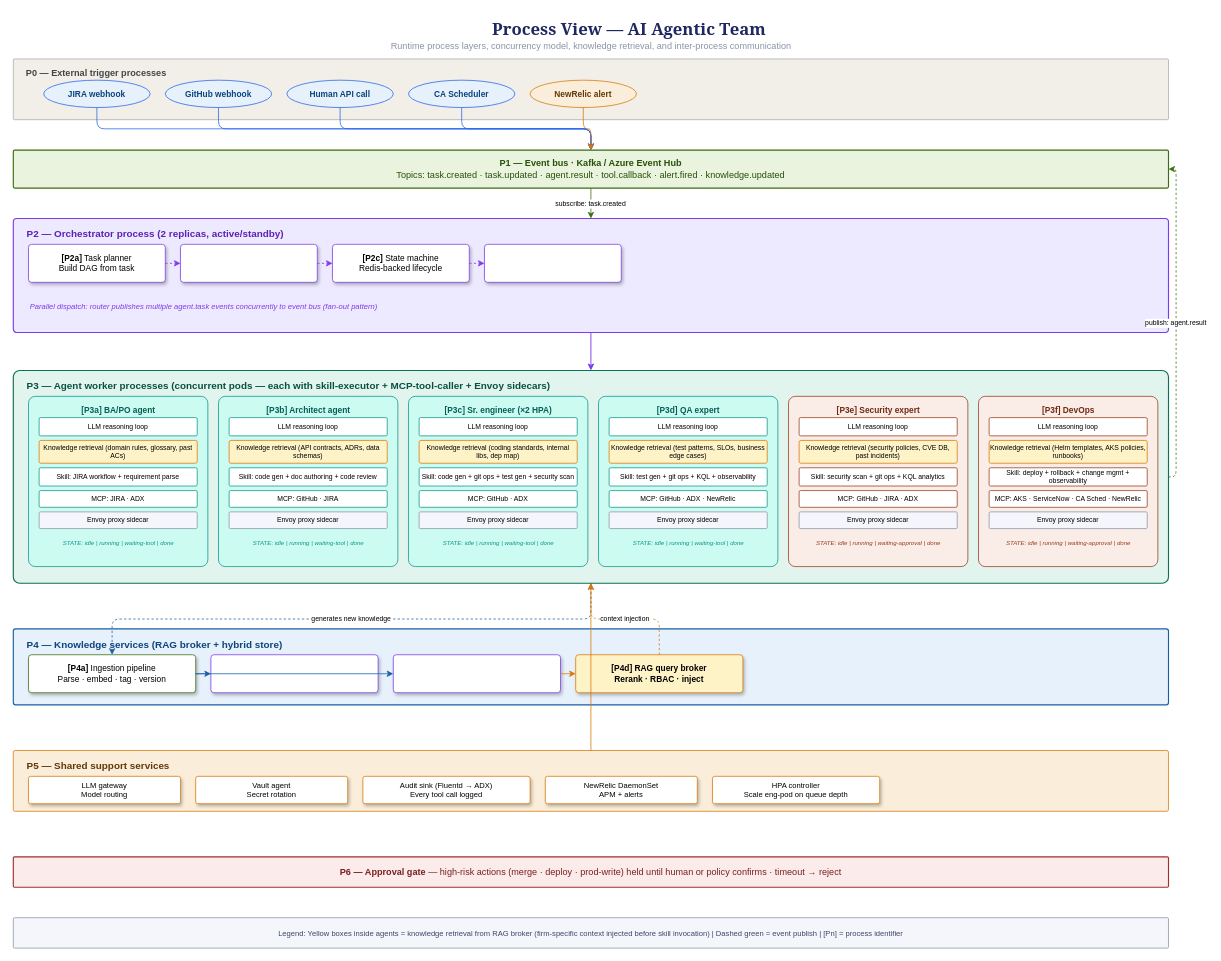
The diagram is 1221 pixels wide and 961 high, and some of its shapes have lost their labels. Each missing label, with the centre of its shape:
"[P2b] Agent router Select + fan-out" goes at point 249,264.
"[P2d] Result synthesiser Merge outputs" goes at point 553,264.
"[P4b] Vector store Semantic similarity retrieval" goes at point 295,674.
"[P4c] Structured catalog Keyword + metadata filter" goes at point 477,674.
